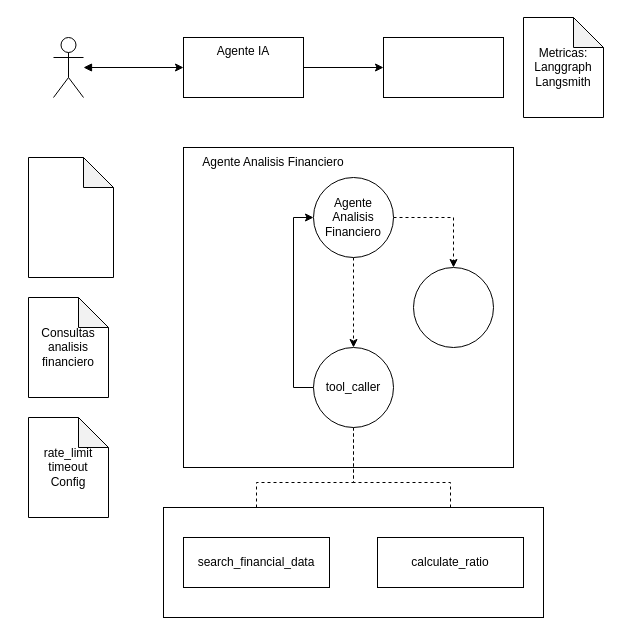
This 621x635 diagram has some shape labels left out. The centre of each missing label's shape, as x and y in pixels:
"Analista Financiero" belongs at (x=68, y=67).
"Asistencia evaluación indicadores clave, etc." belongs at (x=71, y=217).
"END" belongs at (x=453, y=307).
"Langsmith (Metricas)" belongs at (x=443, y=67).
